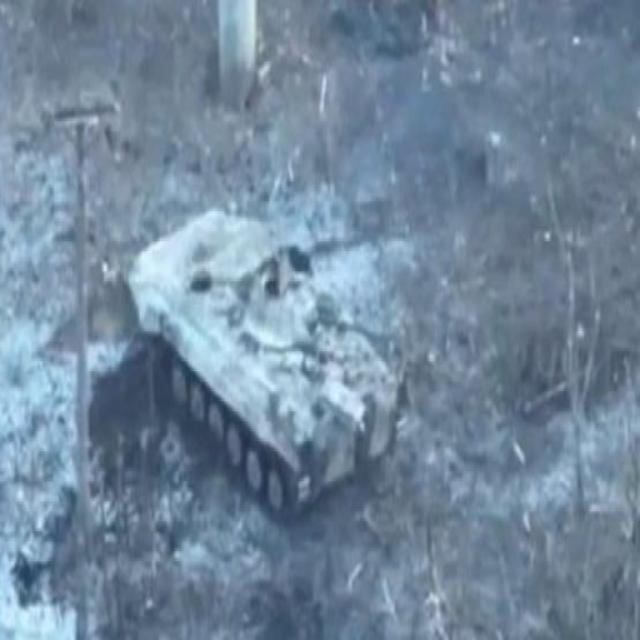APC-IFV: (121, 200, 400, 518)
